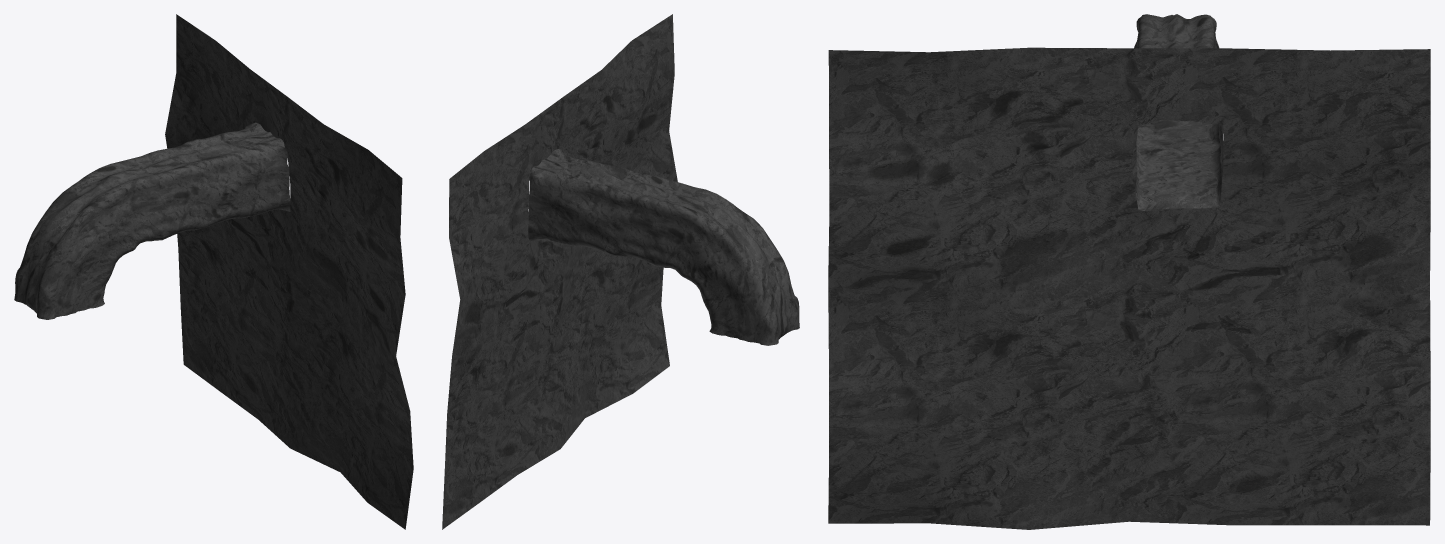
File: WallCaveEntrensHigh_003.FBX
The picture shows the model from 3 angles, left to right: view 1: azimuth 30°, elevation 25°; view 2: azimuth 150°, elevation 25°; view 3: azimuth 270°, elevation 25°; orthographic projection. The views are drawn at different scales.
Parts seen in each view (by area): view 1: Plane014; view 2: Plane014; view 3: Plane014.
Boxes of the visible parts, <box> form: Plane014: <box>14,14,413,529</box>; Plane014: <box>442,14,799,529</box>; Plane014: <box>828,14,1430,529</box>.
Bounding box in the file's own units: 1851 × 2409 × 2787.
